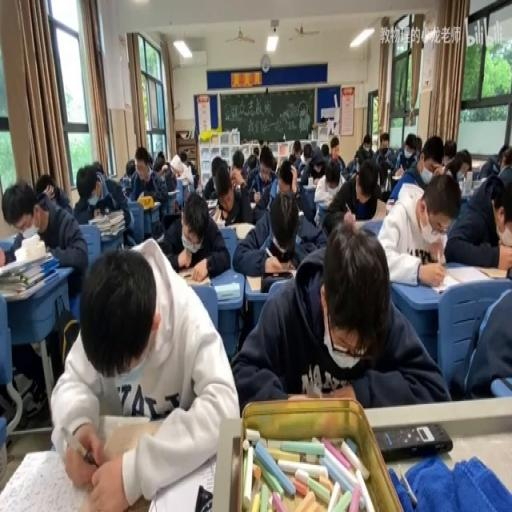calculator: (150, 451, 221, 512), (0, 250, 48, 279), (446, 263, 494, 286), (250, 266, 295, 289), (178, 259, 212, 284), (231, 219, 256, 240), (357, 218, 384, 236), (214, 282, 240, 300), (314, 200, 330, 228), (368, 196, 387, 219), (0, 234, 18, 254), (299, 181, 315, 199), (20, 225, 38, 240), (210, 205, 224, 222), (470, 176, 484, 190), (456, 174, 466, 192), (204, 196, 218, 206), (222, 222, 236, 232), (166, 189, 178, 196), (294, 233, 301, 245), (386, 196, 394, 206), (149, 199, 160, 206), (390, 172, 399, 179), (298, 209, 304, 218), (250, 202, 256, 209)
paper: (52, 238, 238, 509), (232, 216, 446, 415), (2, 176, 88, 416), (444, 171, 510, 395), (379, 171, 459, 283), (160, 188, 230, 282), (72, 161, 134, 256), (323, 158, 382, 229), (125, 145, 170, 235), (268, 154, 318, 224), (36, 171, 72, 212), (392, 131, 420, 173), (252, 168, 277, 215), (476, 145, 510, 179), (352, 132, 375, 166), (328, 138, 345, 172), (286, 139, 302, 172), (376, 158, 390, 192), (96, 172, 110, 203), (441, 138, 456, 165), (161, 162, 176, 189), (186, 158, 198, 189), (457, 148, 470, 176), (309, 145, 322, 171), (210, 156, 224, 180), (153, 150, 166, 174), (325, 171, 339, 192), (118, 174, 132, 192), (231, 152, 243, 172), (243, 154, 256, 172), (181, 179, 190, 202), (302, 142, 312, 161), (93, 161, 104, 176), (320, 142, 330, 158), (125, 160, 135, 176), (379, 135, 389, 151), (414, 134, 422, 152), (270, 154, 277, 170), (252, 142, 259, 156), (146, 152, 152, 168), (180, 149, 186, 162)
person: (373, 420, 453, 460), (173, 199, 179, 213)
